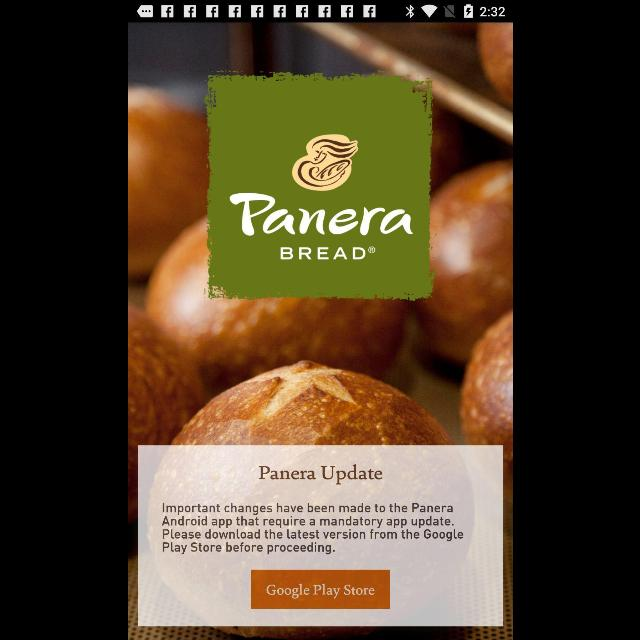backgroundimage: (128, 22, 512, 640)
image: (205, 72, 432, 298)
text: (161, 503, 463, 555), (258, 464, 382, 484)
textbutton: (250, 570, 390, 610)
uppertaskbar: (128, 1, 512, 23)
